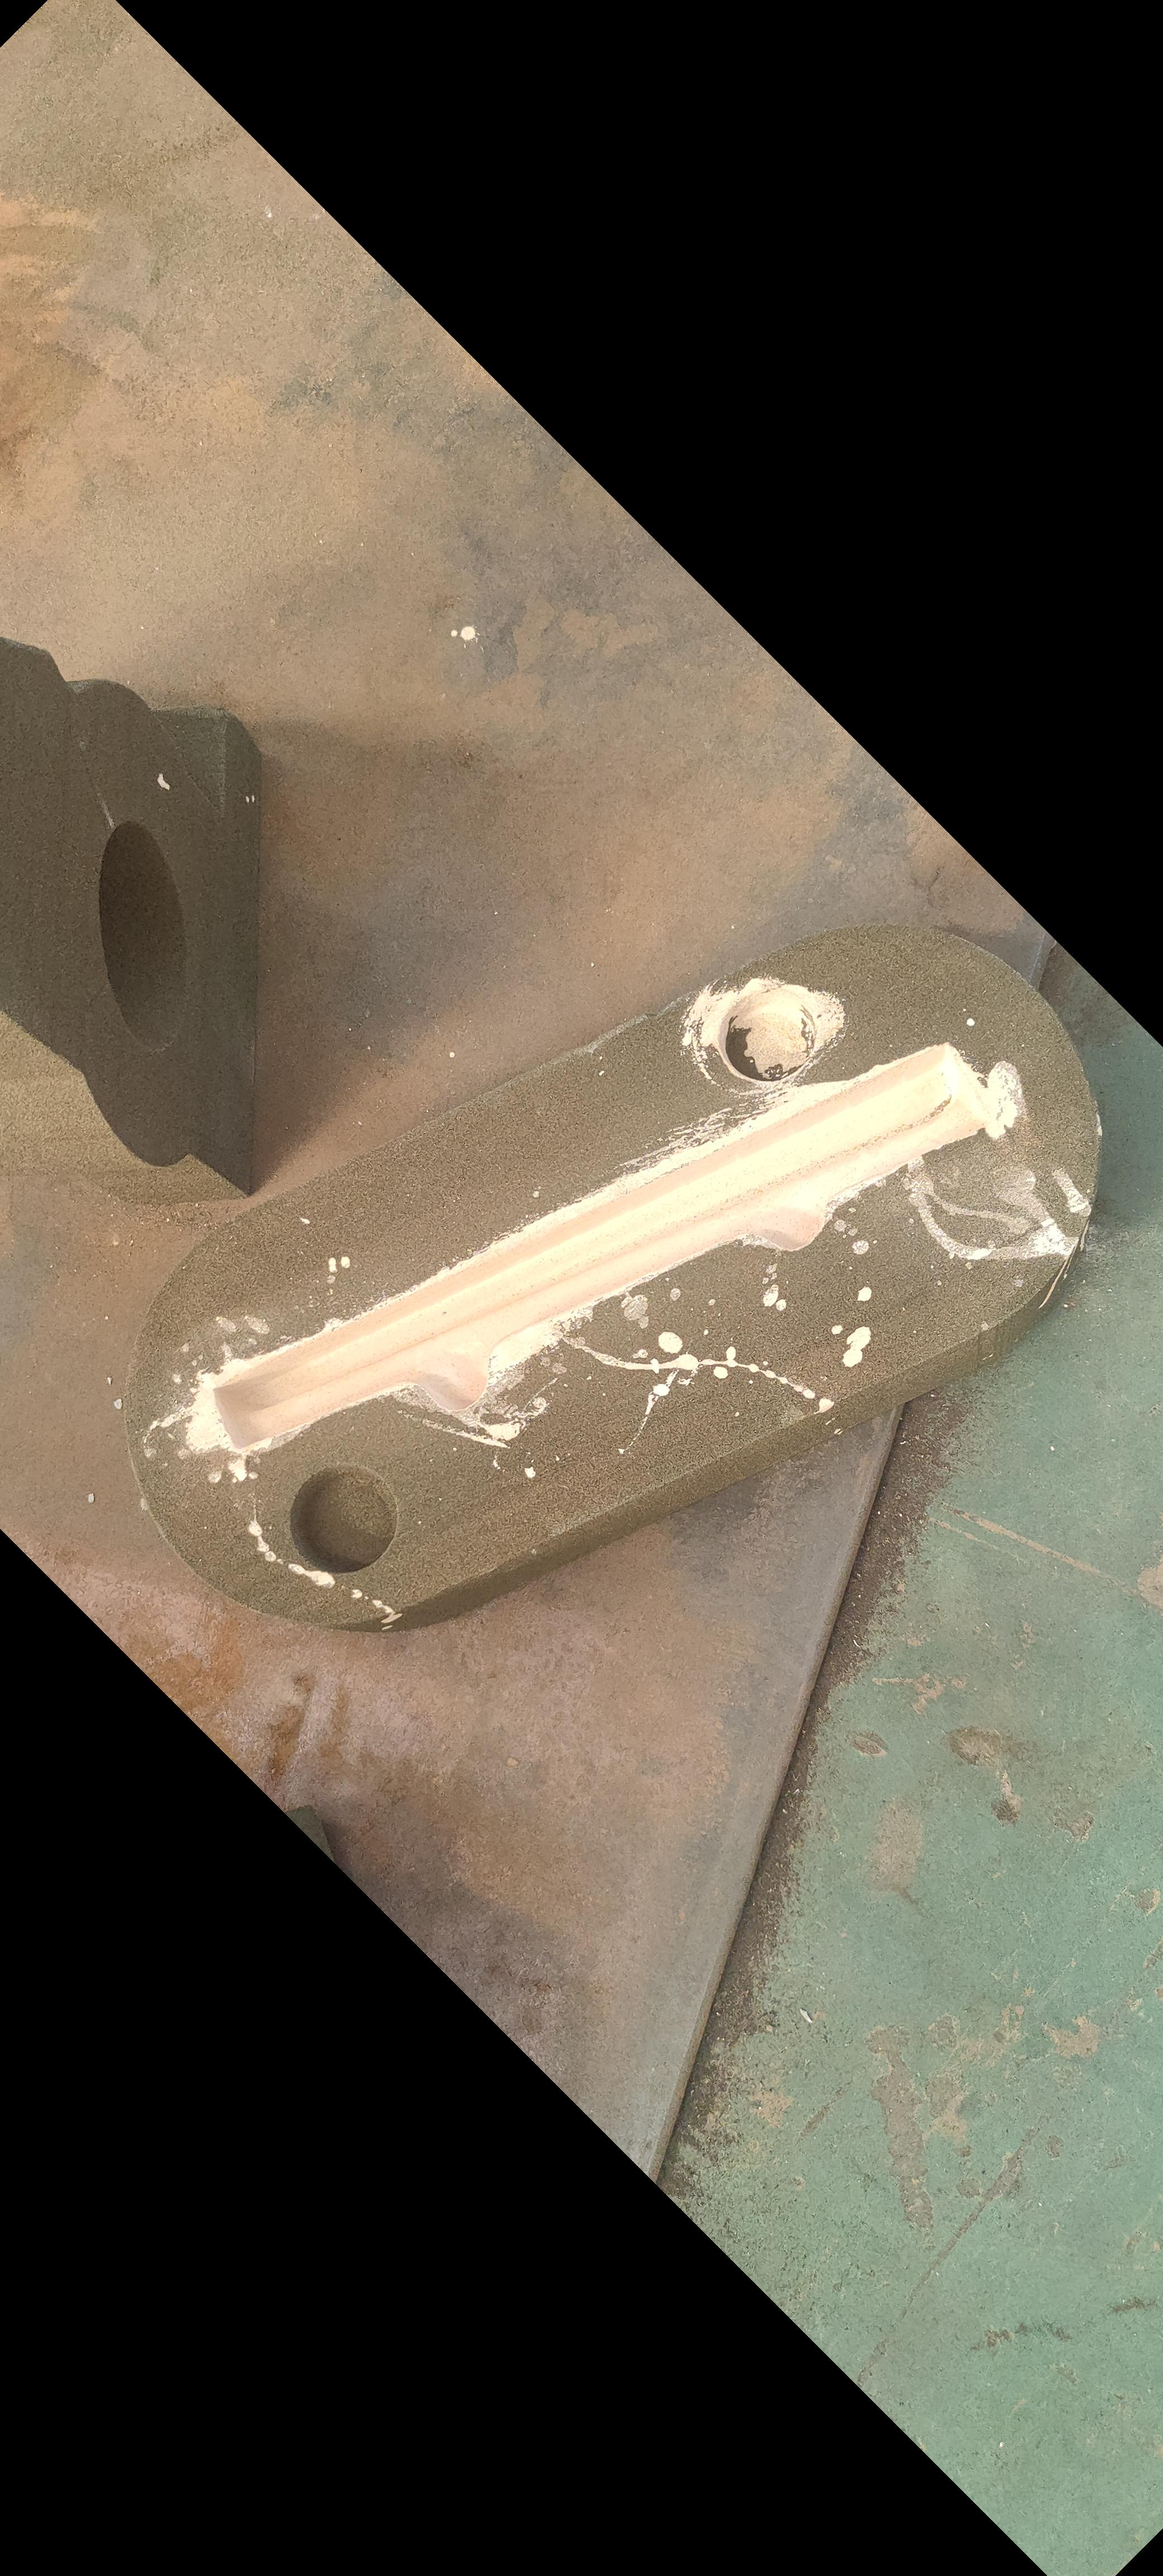pouring hole: (94, 817, 191, 1050)
